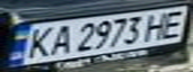2: (75, 20, 96, 53)
3: (124, 14, 148, 45)
7: (109, 16, 130, 47)
9: (93, 17, 115, 51)
A: (45, 22, 75, 56)
E: (157, 7, 193, 39)
H: (139, 10, 175, 42)
K: (21, 25, 57, 61)
